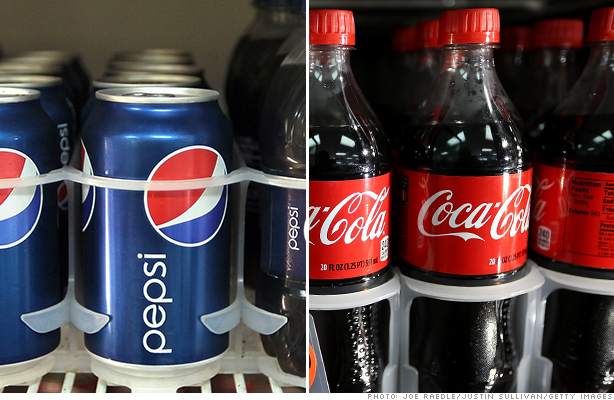pepsi: (143, 143, 226, 243), (143, 144, 226, 243), (0, 146, 40, 246)
